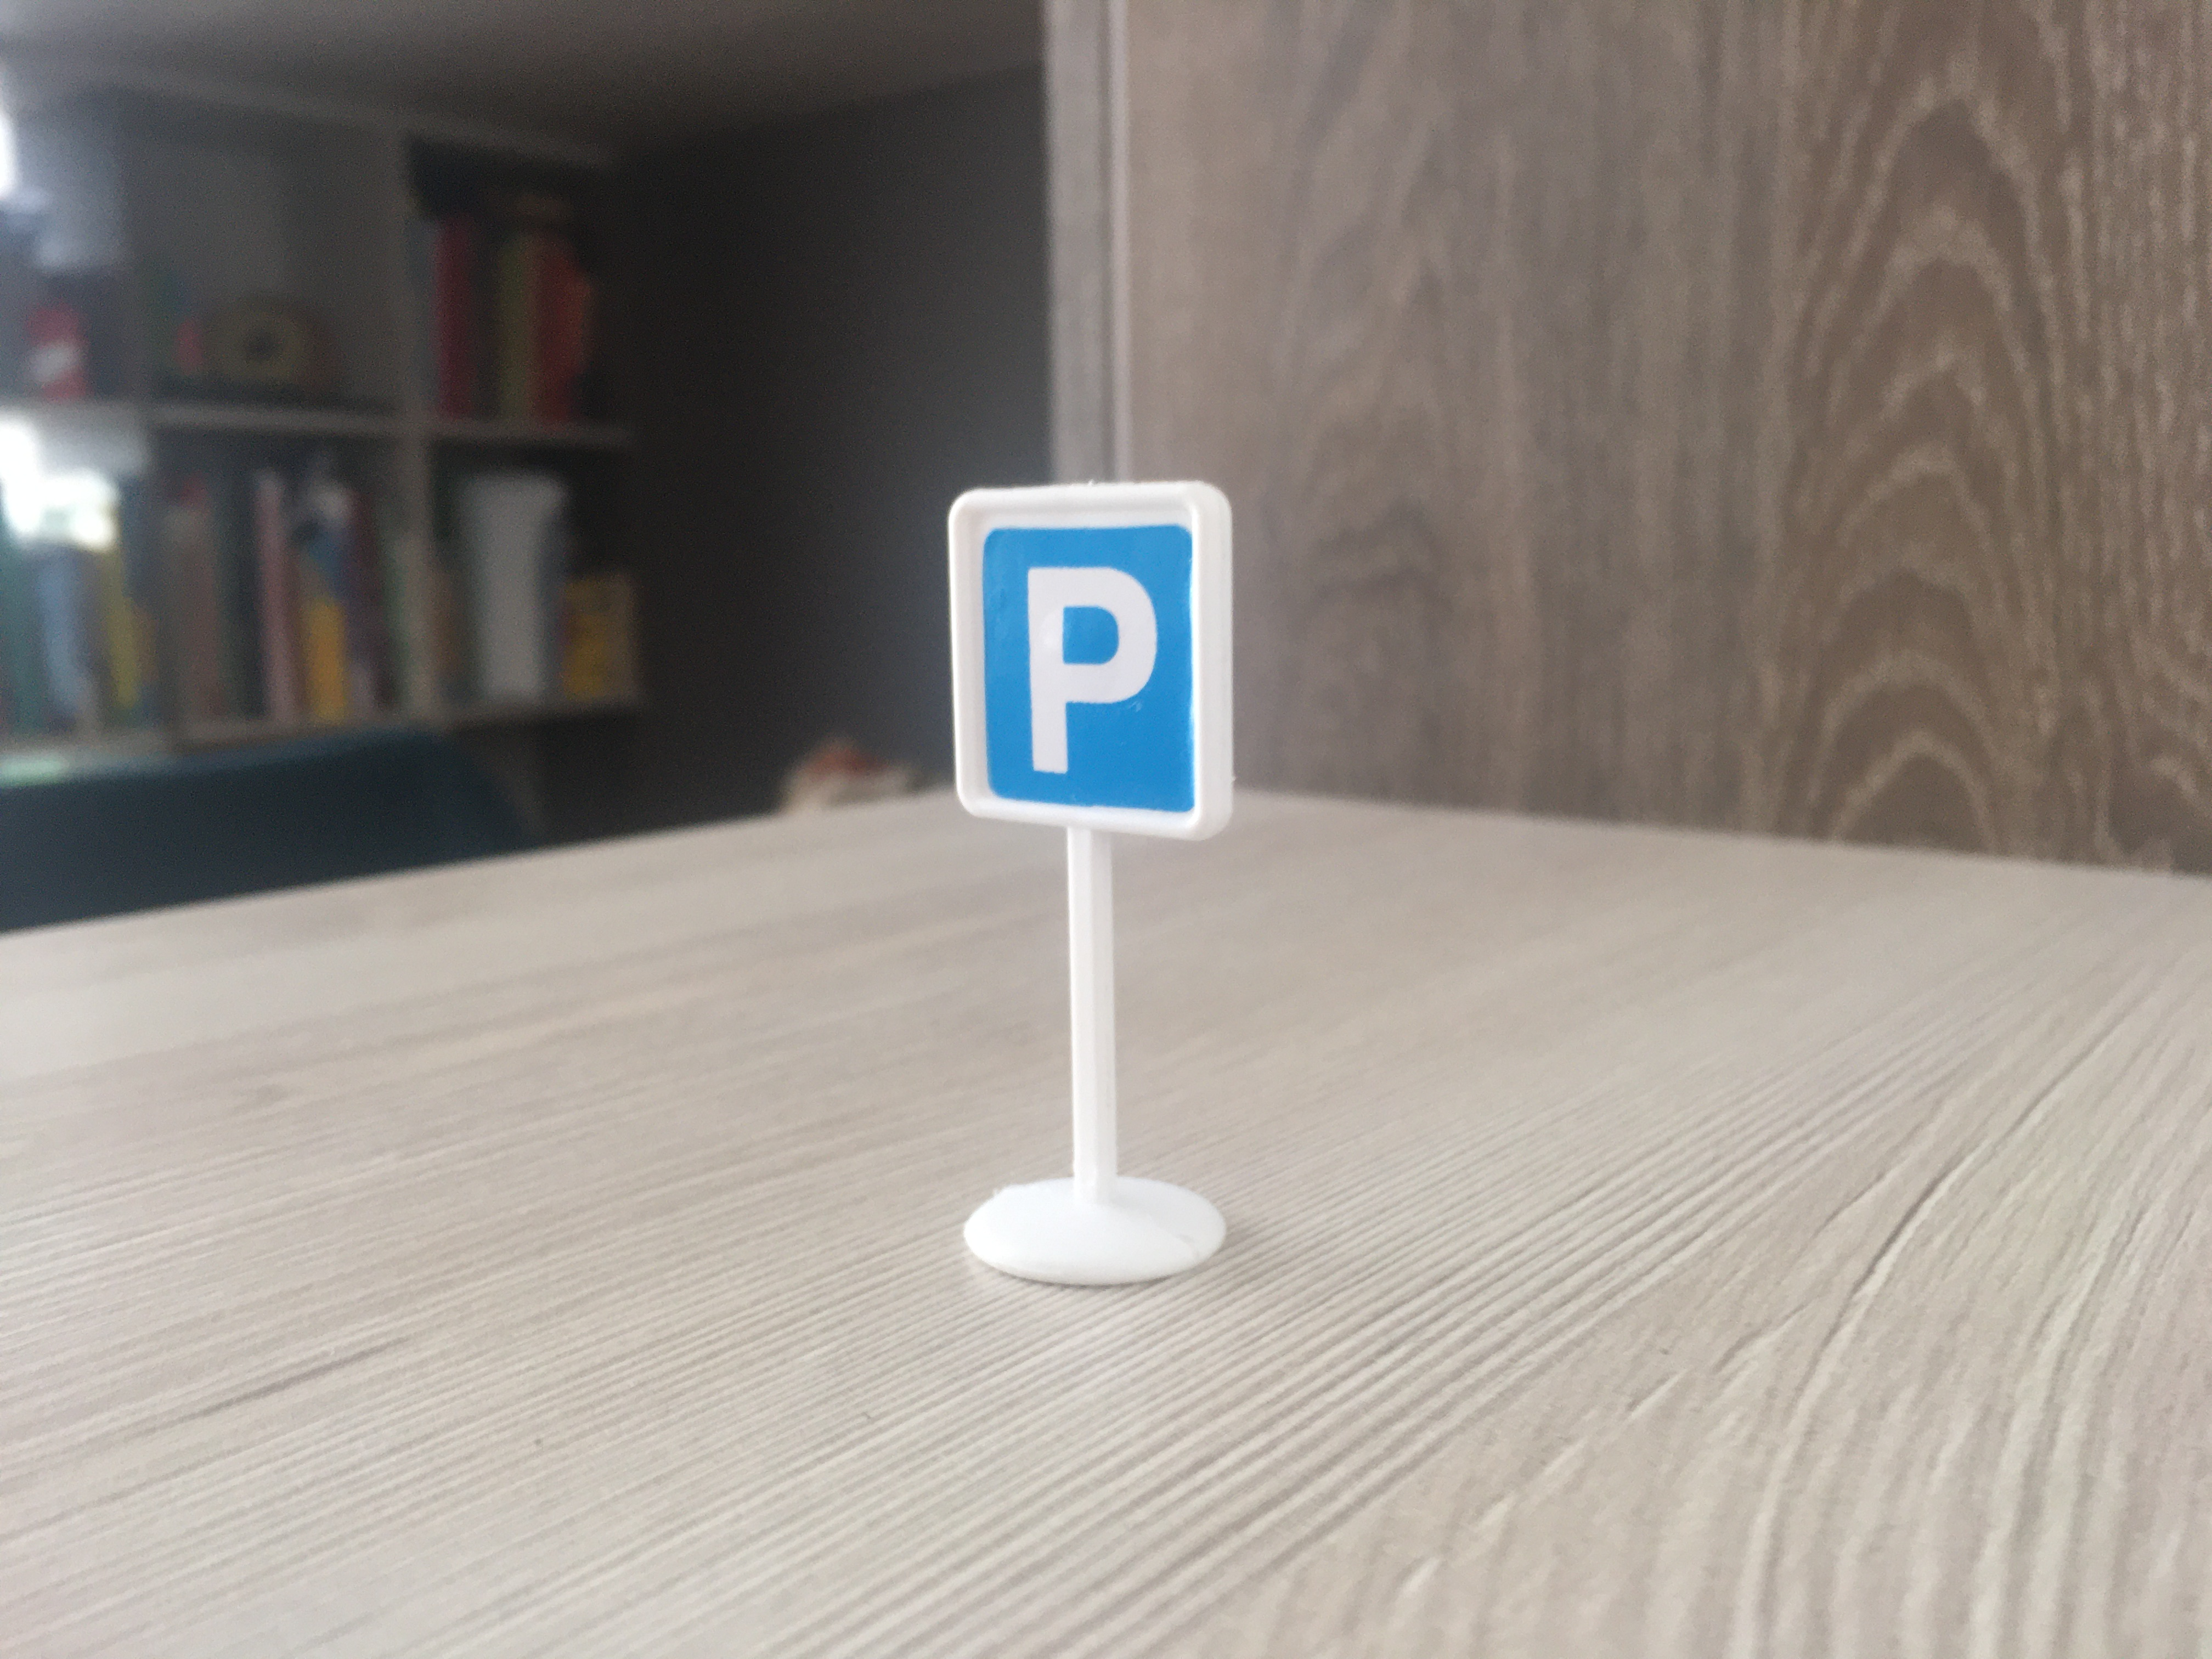parking: (942, 481, 1240, 843)
